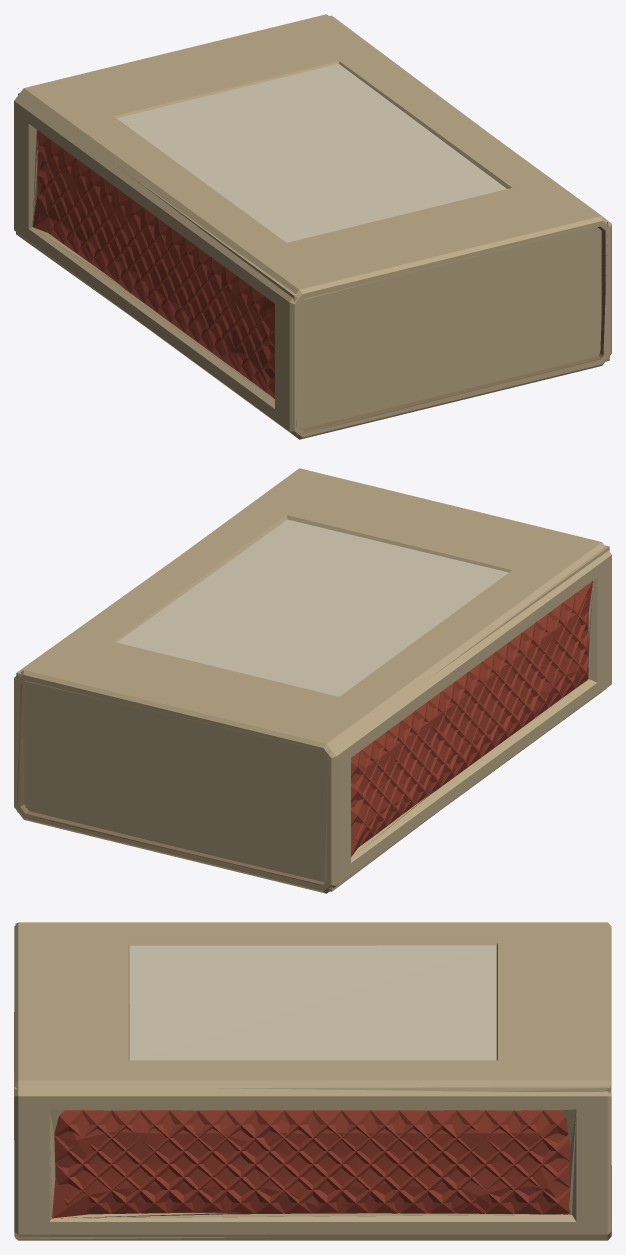
The model's file is pf_matchbox_house.glb.
3 renders of one model, top to bottom at view 1: azimuth 30°, elevation 25°; view 2: azimuth 150°, elevation 25°; view 3: azimuth 270°, elevation 25°, orthographic. The views are drawn at different scales.
Parts seen in each view (by area): view 1: body, body__far; view 2: body, body__far; view 3: body, body__far.
Boxes of the visible parts, bbox=[...] form: body: bbox=[14, 14, 611, 439]; body__far: bbox=[16, 15, 609, 434]; body: bbox=[14, 468, 611, 893]; body__far: bbox=[16, 519, 609, 891]; body: bbox=[14, 922, 611, 1240]; body__far: bbox=[14, 923, 611, 1239].
Size of the model in its own units: 0.72 by 0.32 by 1.08.
